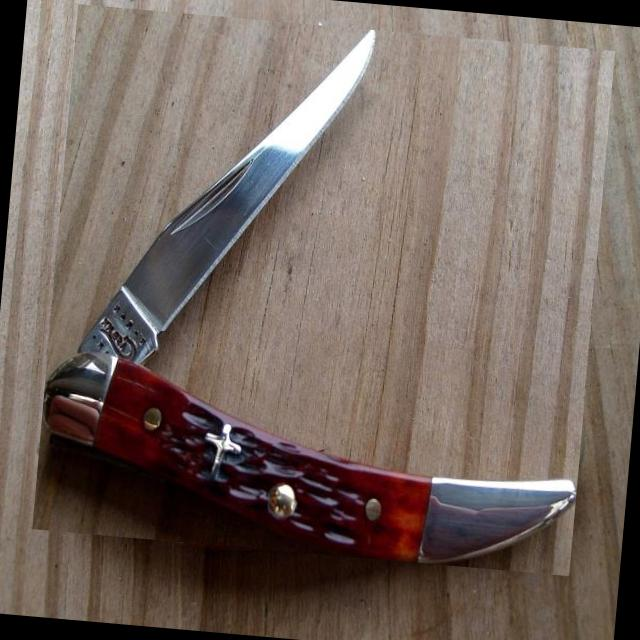Knife: (42, 30, 576, 562)
